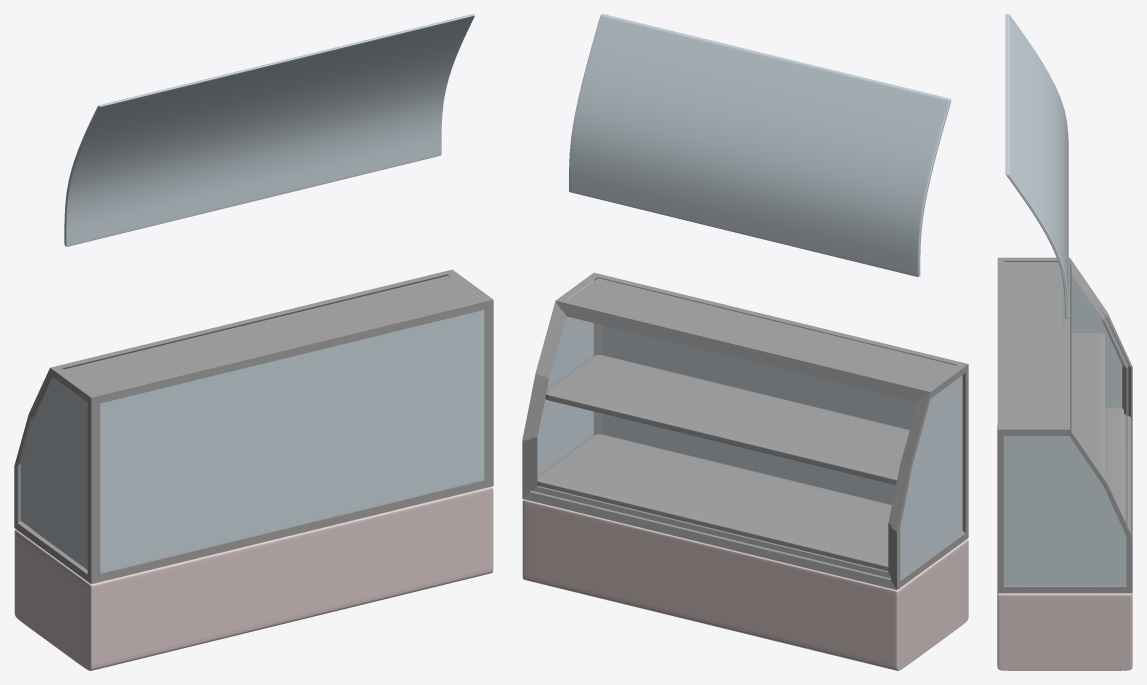
The model's file is display_cake.fbx.
The picture shows the model from 3 angles, left to right: view 1: azimuth 30°, elevation 25°; view 2: azimuth 150°, elevation 25°; view 3: azimuth 270°, elevation 25°; orthographic projection. The views are drawn at different scales.
Visible parts, largest first — view 1: pasted__pasted__g_top, pasted__pCube1, pasted__bottom, pasted__outer, pasted__g_top, pasted__pCube3; view 2: pasted__pCube1, pasted__bottom, pasted__dech1, pasted__dech, pasted__outer, pasted__pasted__g_top, pasted__g_top, pasted__pCube3, pasted__pasted__outer, pasted__pCube2; view 3: pasted__pCube2, pasted__pCube1, pasted__bottom, pasted__g_top, pasted__outer, pasted__dech, pasted__pCube3, pasted__dech1, pasted__pasted__outer.
Boxes of the visible parts, <box> form: pasted__pasted__g_top: <box>100,310,484,572</box>; pasted__pCube1: <box>64,14,474,246</box>; pasted__bottom: <box>14,486,493,670</box>; pasted__outer: <box>14,269,493,584</box>; pasted__g_top: <box>64,275,479,392</box>; pasted__pCube3: <box>21,377,87,569</box>; pasted__pCube1: <box>569,14,951,276</box>; pasted__bottom: <box>522,499,968,670</box>; pasted__dech1: <box>537,434,891,571</box>; pasted__dech: <box>545,355,909,484</box>; pasted__outer: <box>522,272,968,589</box>; pasted__pasted__g_top: <box>602,325,917,504</box>; pasted__g_top: <box>568,278,955,387</box>; pasted__pCube3: <box>900,375,962,576</box>; pasted__pasted__outer: <box>530,311,922,578</box>; pasted__pCube2: <box>537,280,593,476</box>; pasted__pCube2: <box>1003,436,1126,585</box>; pasted__pCube1: <box>1005,14,1068,318</box>; pasted__bottom: <box>997,425,1132,670</box>; pasted__g_top: <box>1004,262,1062,426</box>; pasted__outer: <box>997,257,1132,593</box>; pasted__dech: <box>1062,332,1105,480</box>; pasted__pCube3: <box>1062,276,1128,415</box>; pasted__dech1: <box>1105,407,1123,517</box>; pasted__pasted__outer: <box>1071,268,1127,524</box>.
Bounding box in the file's own units: 3.45 × 4.57 × 1.14.
